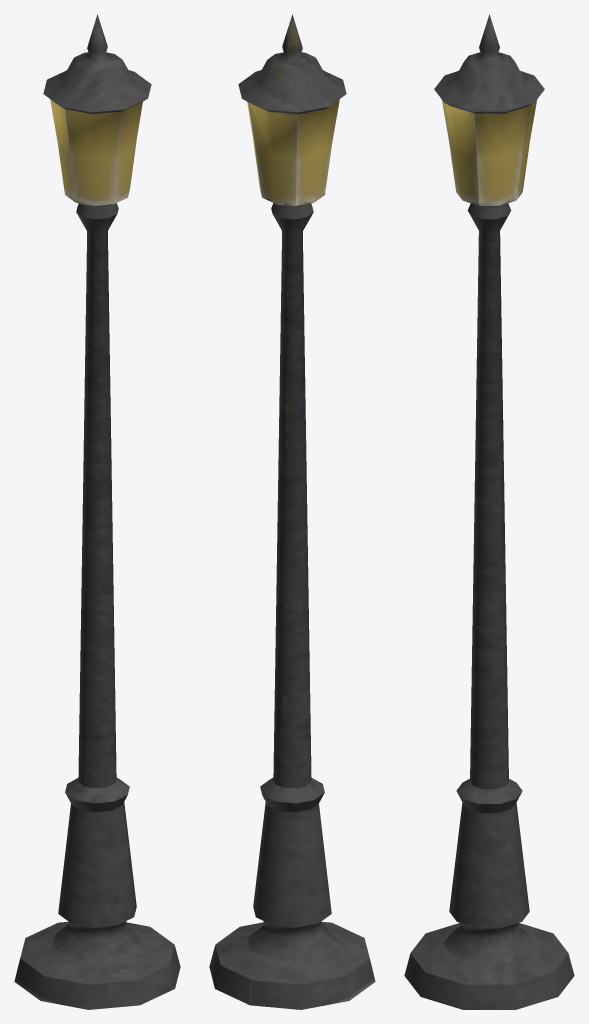
Rendered from Lantern001.fbx.
3 views of the same model, side by side, from view 1: azimuth 30°, elevation 25°; view 2: azimuth 150°, elevation 25°; view 3: azimuth 270°, elevation 25° (orthographic).
Visible parts, largest first — view 1: Cylinder.009; view 2: Cylinder.009; view 3: Cylinder.009.
Boxes of the visible parts, box(x1,y1,x2,y2) form: Cylinder.009: box(14, 14, 180, 1009); Cylinder.009: box(209, 14, 375, 1009); Cylinder.009: box(404, 14, 574, 1009).
Size of the model in its own units: 247 by 1619 by 260.
